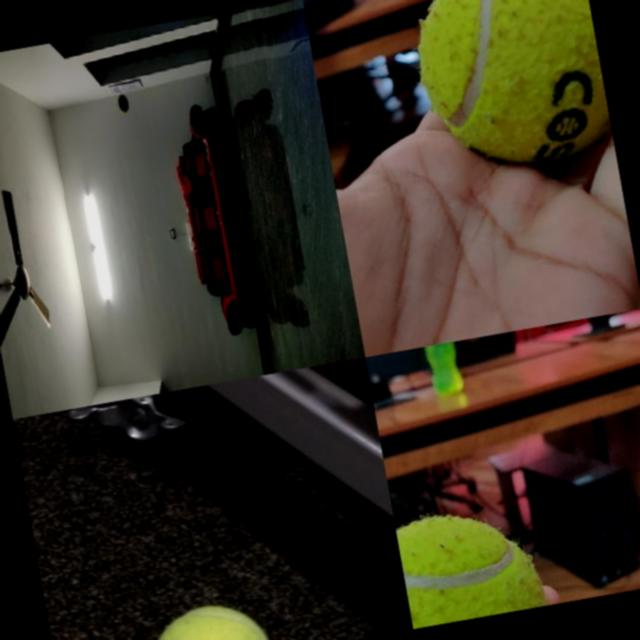tennis-ball: (403, 0, 614, 180), (394, 498, 547, 628), (139, 595, 274, 640), (116, 93, 130, 114)
